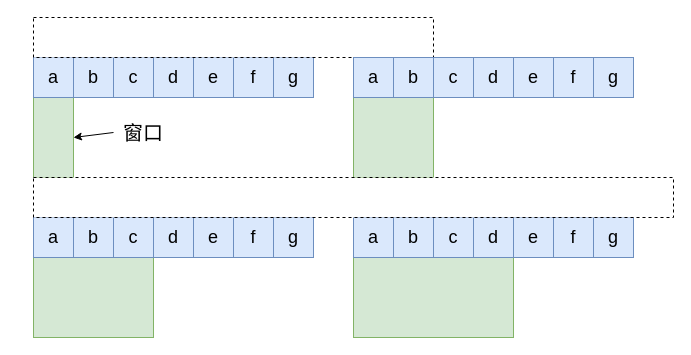
Image size: 691x355. Some labels were removed from this diagram. Here are the shapes that lost their labels. From the top down, the centre of each, then its label:
At pixel 233 37: "当窗口中没有重复元素时，始终移动右边框".
At pixel 53 137: "i=0 left=0".
At pixel 393 137: "i=1 left=0".
At pixel 353 197: "根据上面规律发现，正常情况下最大值就是窗口的宽度 ，等于索引 i - left + 1".
At pixel 93 297: "i=2 left=0".
At pixel 433 297: "i=3 left=0".
